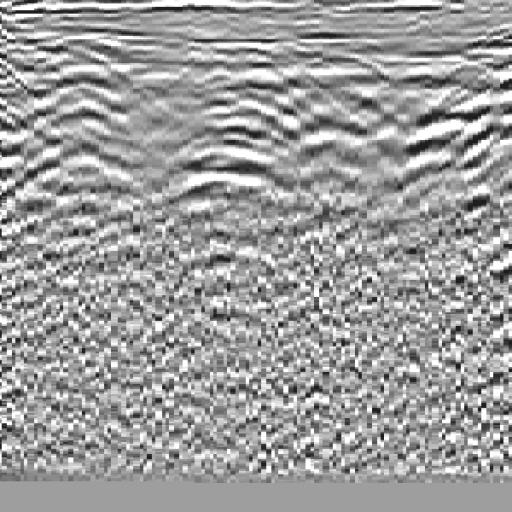metalic: (167, 80, 325, 237)
nonmetalic: (406, 45, 512, 269)
